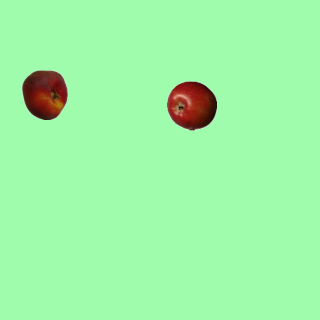Apple Braeburn: (166, 80, 216, 130)
Nectarine Flat: (19, 69, 69, 119)
